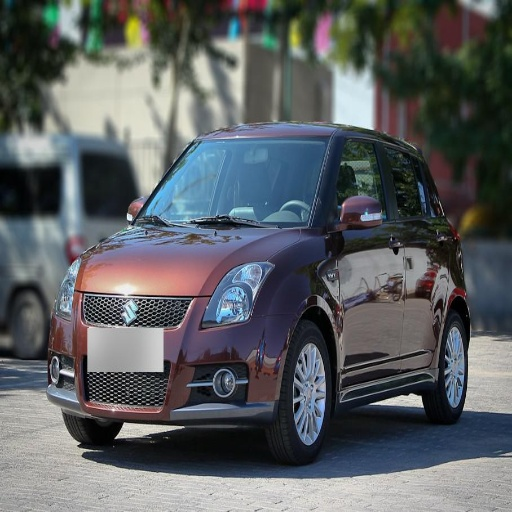front_bumper: (49, 291, 293, 426)
front_glass: (135, 139, 331, 228)
front_left_door: (323, 137, 404, 379)
